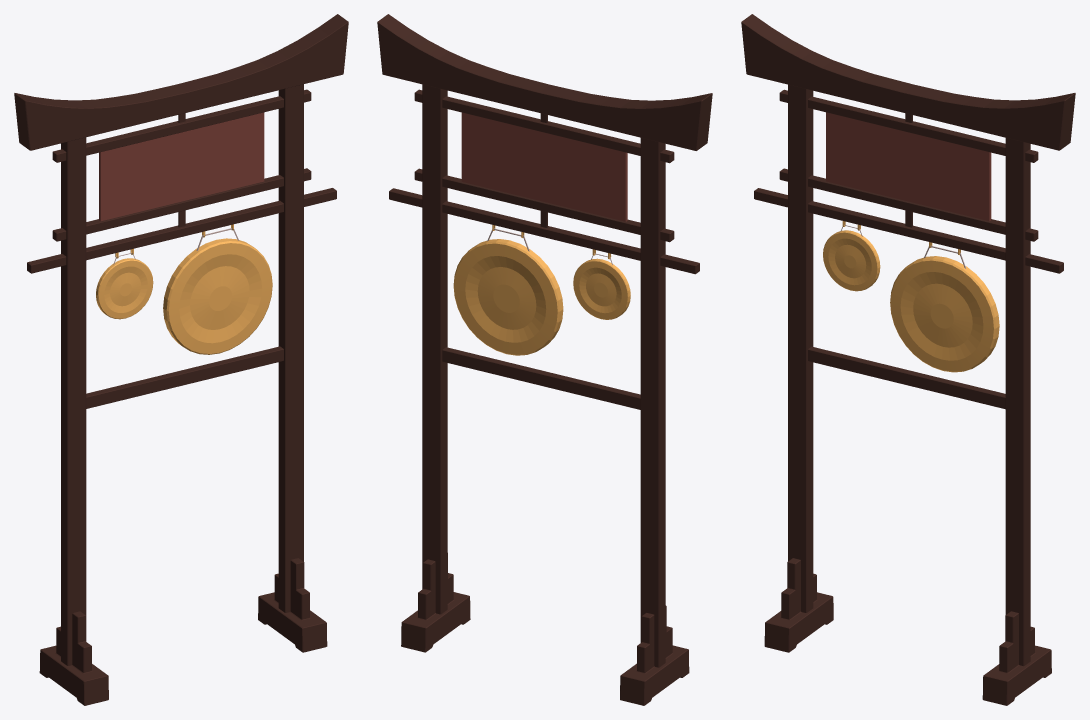
File: EvenLongerGongs.fbx
3 views of the same model, side by side, from view 1: azimuth 30°, elevation 25°; view 2: azimuth 150°, elevation 25°; view 3: azimuth 330°, elevation 25° (orthographic).
Visible parts, largest first — view 1: gong_frame, gong_sign, gong_big, gong_small; view 2: gong_frame, gong_sign, gong_big, gong_small; view 3: gong_frame, gong_sign, gong_big, gong_small.
Boxes of the visible parts, box(x1,y1,x2,y2) form: gong_frame: box(14, 14, 348, 705); gong_sign: box(99, 112, 264, 221); gong_big: box(163, 228, 272, 354); gong_small: box(96, 253, 153, 319); gong_frame: box(377, 14, 712, 705); gong_sign: box(461, 112, 627, 221); gong_big: box(453, 228, 563, 355); gong_small: box(573, 253, 630, 319); gong_frame: box(741, 14, 1075, 705); gong_sign: box(826, 112, 991, 221); gong_big: box(890, 245, 999, 372); gong_small: box(823, 225, 880, 291).
Size of the model in its own units: 233 by 413 by 55.83.
